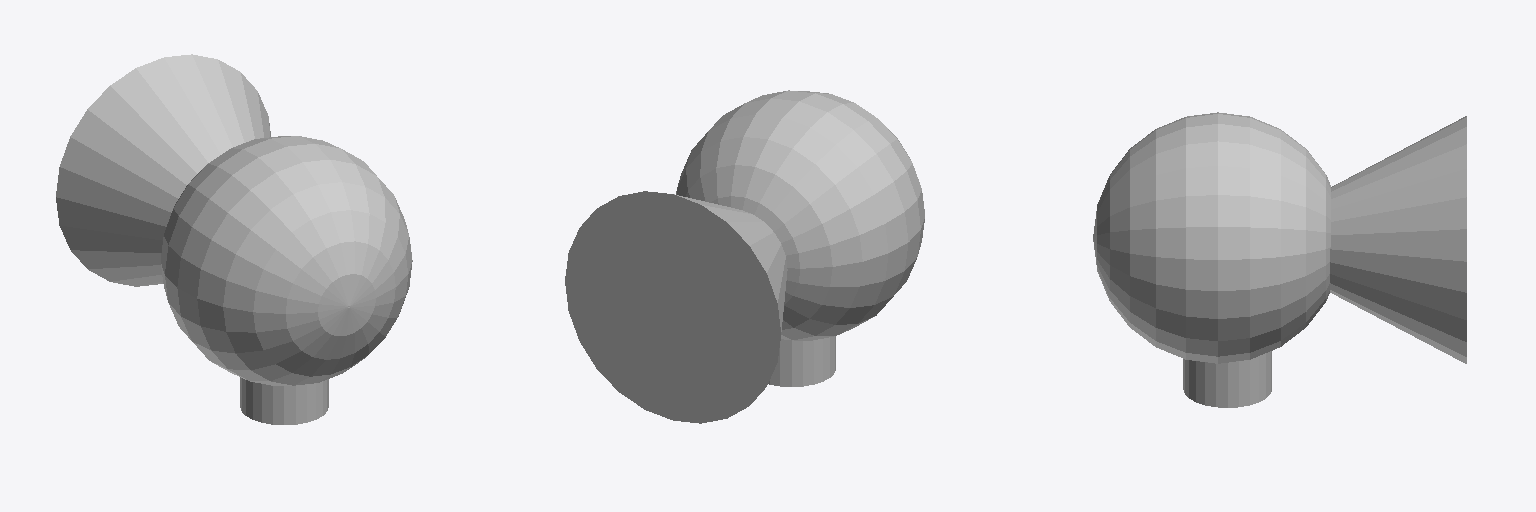
The model's file is canary.obj.
The picture shows the model from 3 angles: view 1: azimuth 30°, elevation 25°; view 2: azimuth 150°, elevation 25°; view 3: azimuth 270°, elevation 25°; orthographic projection.
Parts seen in each view (by area): view 1: Object.1; view 2: Object.1; view 3: Object.1.
Part boxes in pixels (x1,y1,x2,y2): Object.1: (56, 54, 412, 424); Object.1: (565, 90, 924, 423); Object.1: (1093, 112, 1466, 407).
Bounding box in the file's own units: 11.74 × 13.52 × 17.33.